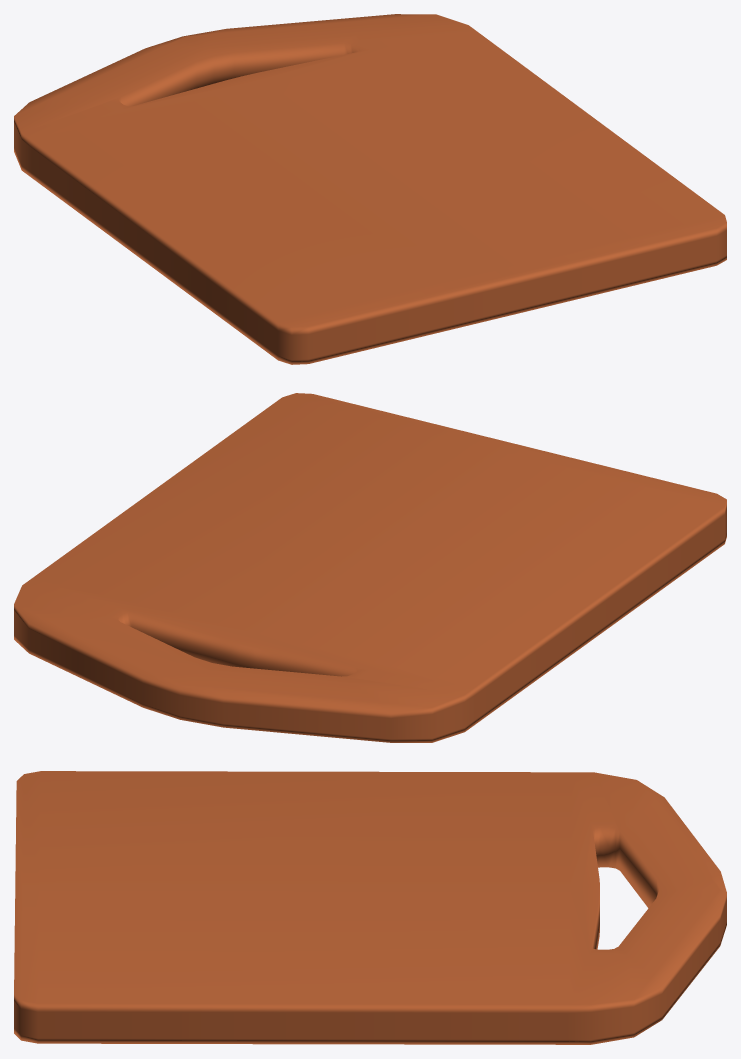
File: kesmetahtası.fbx
The picture shows the model from 3 angles, top to bottom: view 1: azimuth 30°, elevation 25°; view 2: azimuth 150°, elevation 25°; view 3: azimuth 270°, elevation 25°; orthographic projection. The views are drawn at different scales.
Parts seen in each view (by area): view 1: kesmetahtası; view 2: kesmetahtası; view 3: kesmetahtası.
Boxes of the visible parts, left/top/right/bottom form: kesmetahtası: left=14, top=14, right=726, bottom=364; kesmetahtası: left=14, top=393, right=726, bottom=742; kesmetahtası: left=14, top=771, right=726, bottom=1044.
Size of the model in its own units: 1988 by 160 by 2564.
